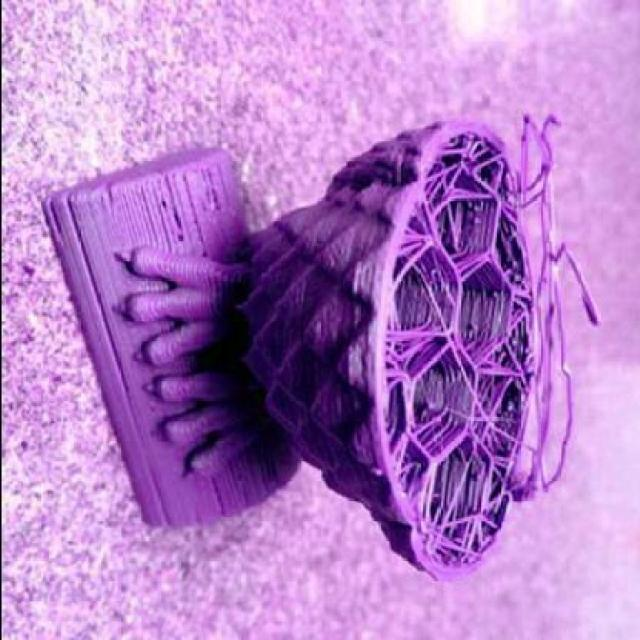Spaghetti: (490, 109, 604, 503)
